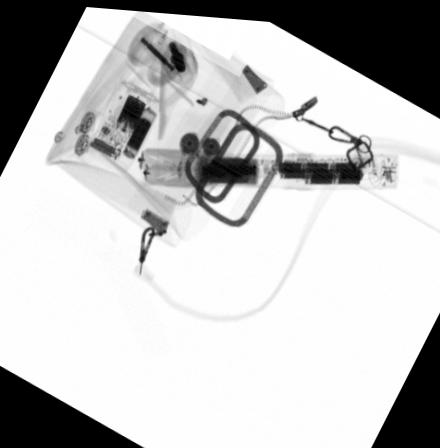Baton: (135, 143, 398, 185)
